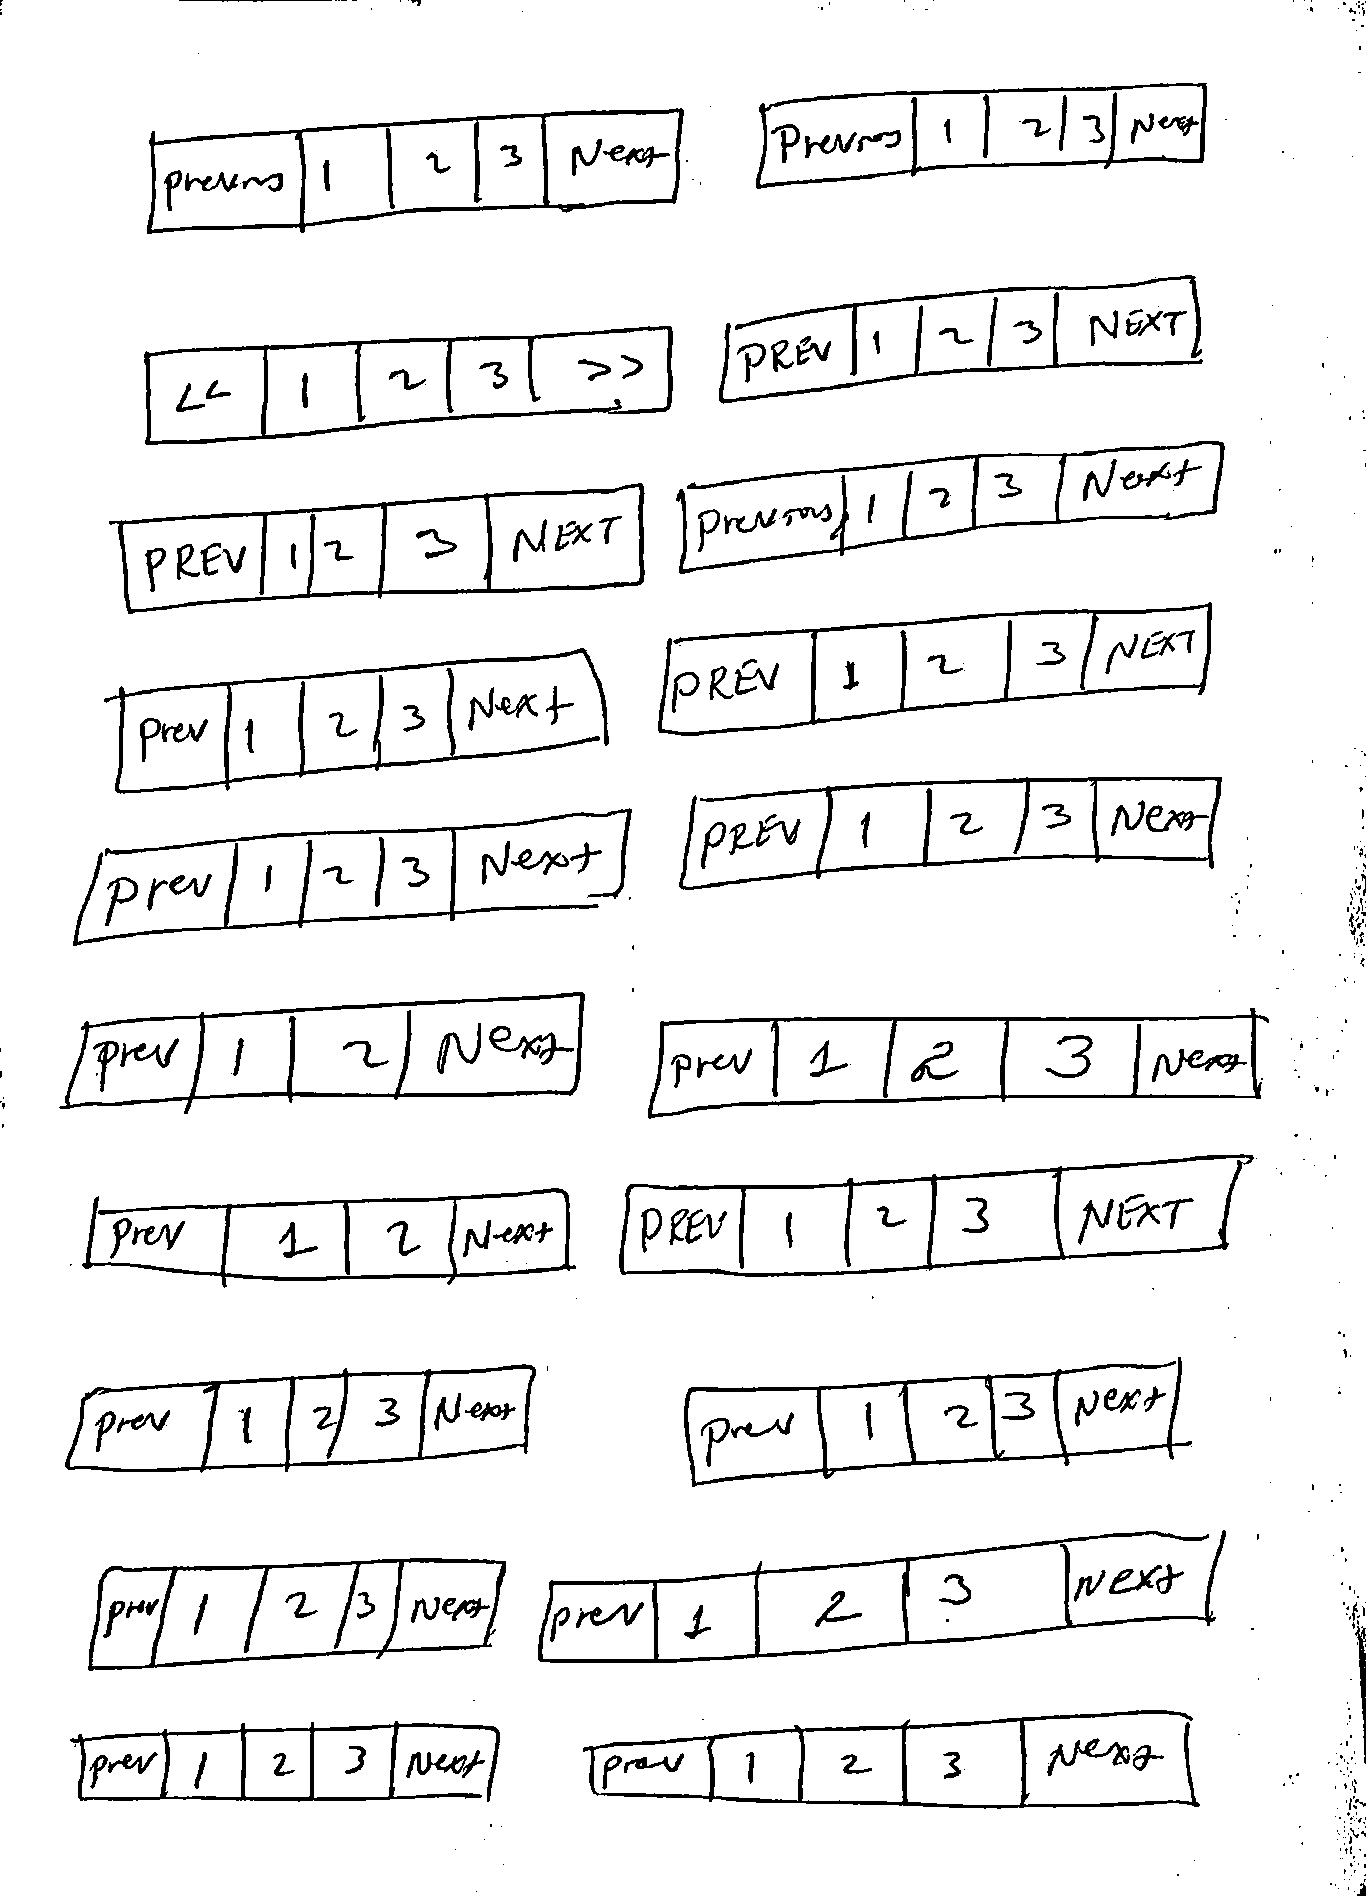Pagination: (534, 1524, 1228, 1666), (68, 801, 634, 949), (614, 1150, 1256, 1279), (651, 599, 1217, 742), (673, 437, 1229, 581), (109, 646, 612, 799), (110, 478, 649, 617), (640, 1004, 1266, 1122), (141, 107, 686, 237), (677, 1354, 1186, 1490), (57, 986, 589, 1116), (141, 321, 676, 449), (677, 771, 1228, 894), (715, 269, 1204, 406), (584, 1708, 1203, 1811), (60, 1362, 539, 1474), (81, 1184, 574, 1287), (751, 82, 1208, 191), (84, 1556, 506, 1674), (72, 1719, 506, 1805)
